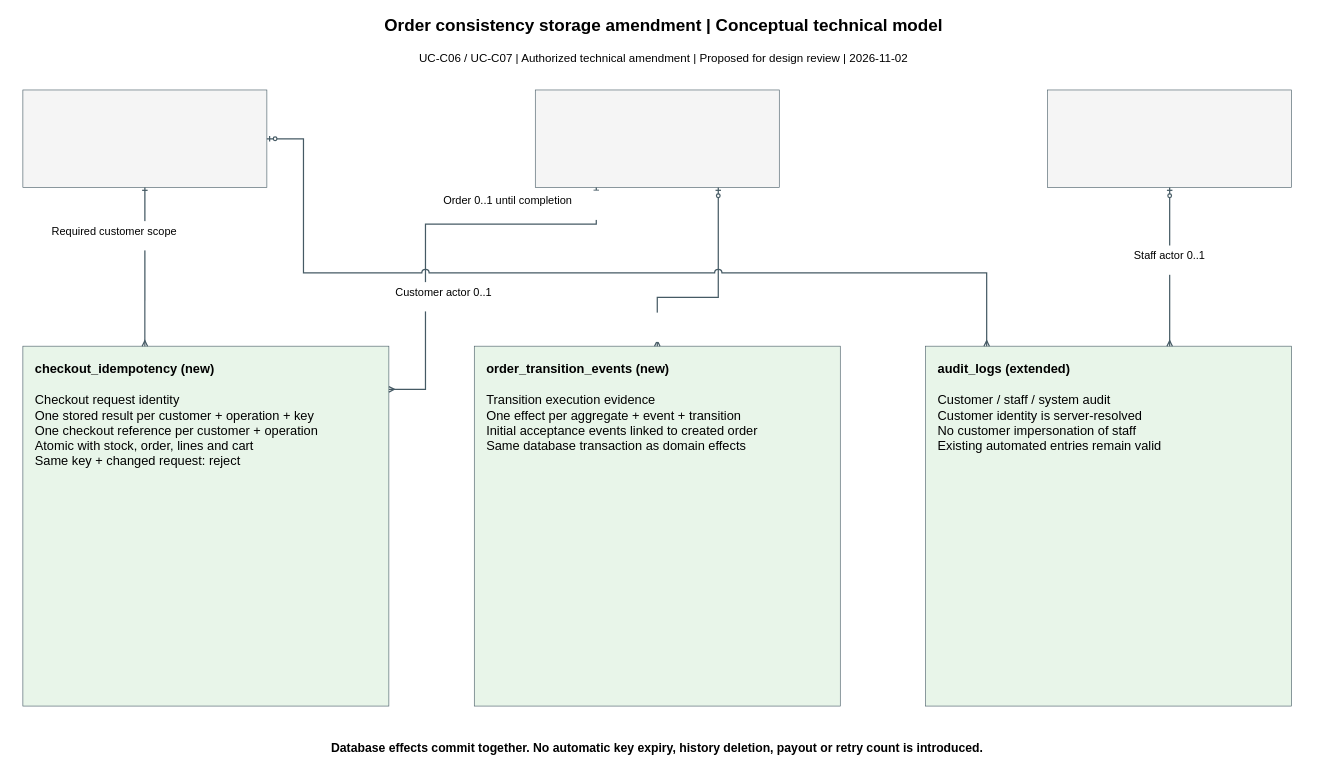
Some shapes in this 1326 by 780 pixel diagram are drawn without their labels. The shapes that lost their labels are listed below. From the top down, each one's centre as x and y in pixels, then its label:
At point (144, 138): "customers (existing) PK customer_id BIGINT".
At point (657, 138): "orders (existing) PK order_id BIGINT".
At point (1169, 138): "staff_accounts (existing) PK staff_id INT".
At point (730, 327): "Order 0..1; bound before commit".
